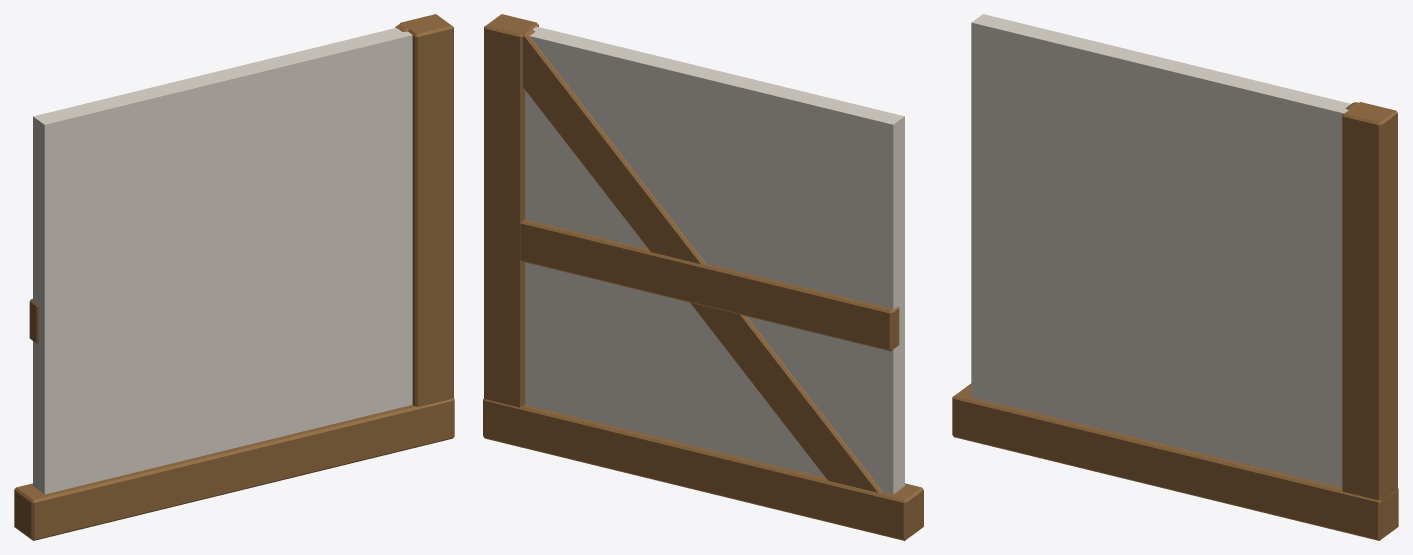
File: WallHDiagL.fbx
The picture shows the model from 3 angles, left to right: view 1: azimuth 30°, elevation 25°; view 2: azimuth 150°, elevation 25°; view 3: azimuth 330°, elevation 25°; orthographic projection.
Parts seen in each view (by area): view 1: Cube.082, Cube.098, Cube.094; view 2: Cube.082, Cube.098, Cube.093, Cube.096, Cube.094; view 3: Cube.082, Cube.094, Cube.098.
Boxes of the visible parts, x1,y1,x2,y2 form: Cube.082: [33, 27, 412, 494]; Cube.098: [14, 398, 454, 540]; Cube.094: [400, 14, 453, 406]; Cube.082: [525, 26, 904, 494]; Cube.098: [483, 398, 923, 540]; Cube.093: [522, 28, 882, 492]; Cube.096: [520, 219, 899, 351]; Cube.094: [484, 14, 538, 407]; Cube.082: [971, 14, 1350, 487]; Cube.094: [1342, 102, 1397, 500]; Cube.098: [952, 383, 1398, 540].
Size of the model in its own units: 216 by 202 by 17.27.
